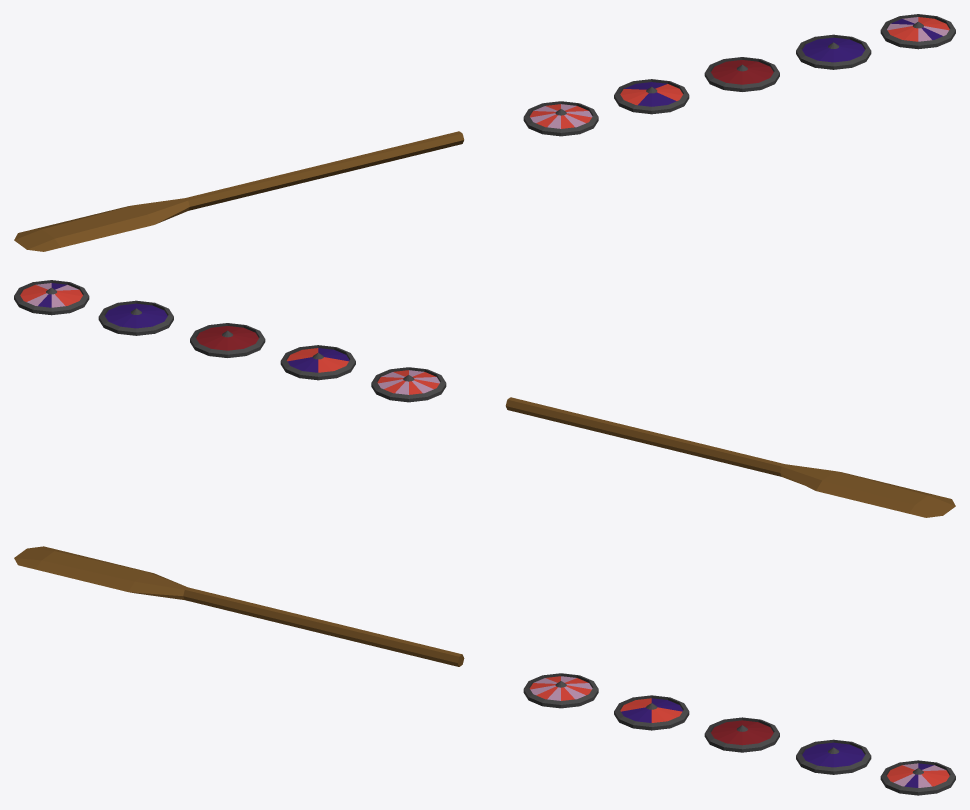
File: World_Extras_Oar_Shields_v1.fbx
The picture shows the model from 3 angles, top to bottom: view 1: azimuth 30°, elevation 25°; view 2: azimuth 150°, elevation 25°; view 3: azimuth 330°, elevation 25°; orthographic projection.
Parts seen in each view (by area): view 1: Cylinder.001, Circle.003, Circle.004, Circle, Circle.002, Circle.001; view 2: Cylinder.001, Circle.003, Circle.004, Circle, Circle.002, Circle.001; view 3: Cylinder.001, Circle.002, Circle, Circle.001, Circle.003, Circle.004.
Boxes of the visible parts, left/top/right/bottom form: Cylinder.001: left=14, top=131, right=464, bottom=251; Circle.003: left=523, top=101, right=598, bottom=136; Circle.004: left=880, top=14, right=955, bottom=49; Circle: left=796, top=34, right=871, bottom=69; Circle.002: left=614, top=79, right=689, bottom=114; Circle.001: left=704, top=57, right=779, bottom=91; Cylinder.001: left=505, top=397, right=955, bottom=517; Circle.003: left=371, top=367, right=446, bottom=402; Circle.004: left=14, top=280, right=89, bottom=315; Circle: left=98, top=300, right=173, bottom=335; Circle.002: left=280, top=345, right=355, bottom=380; Circle.001: left=190, top=323, right=265, bottom=357; Cylinder.001: left=14, top=546, right=464, bottom=666; Circle.002: left=614, top=695, right=689, bottom=730; Circle: left=796, top=739, right=871, bottom=774; Circle.001: left=704, top=717, right=779, bottom=752; Circle.003: left=523, top=673, right=598, bottom=708; Circle.004: left=880, top=760, right=955, bottom=795.
Bounding box in the file's own units: 3191 × 43.14 × 224.
